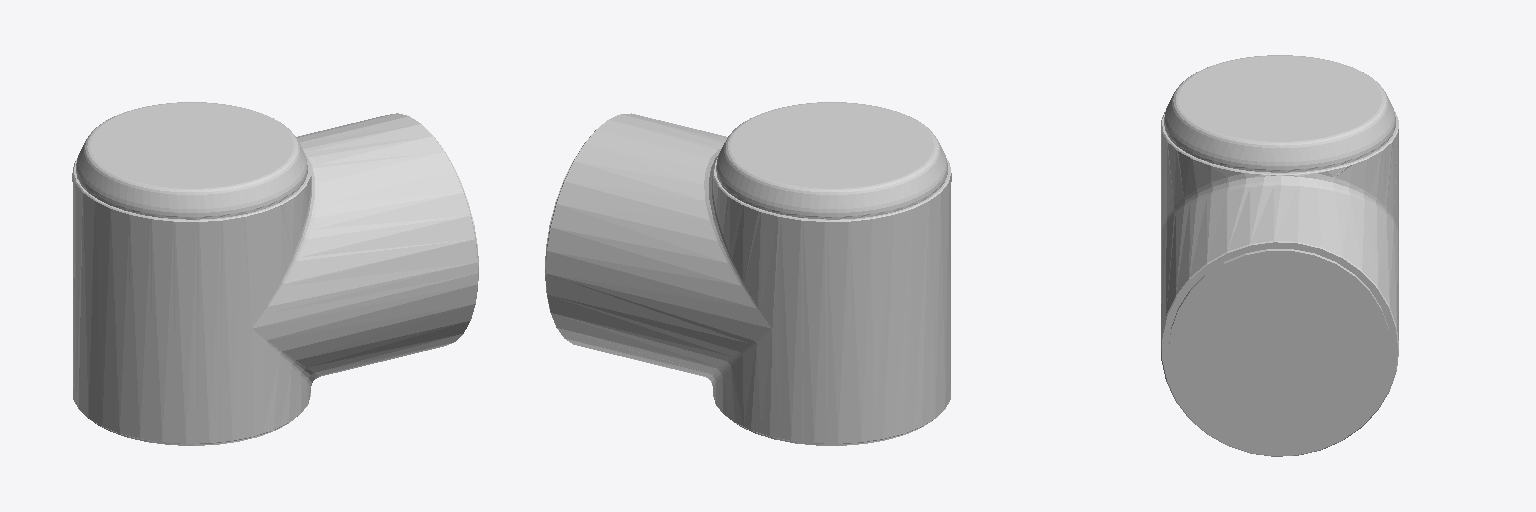
File: wrist_flex_link.obj
3 views of the same model, side by side, from view 1: azimuth 30°, elevation 25°; view 2: azimuth 150°, elevation 25°; view 3: azimuth 270°, elevation 25° (orthographic).
Visible parts, largest first — view 1: obj1; view 2: obj1; view 3: obj1.
Boxes of the visible parts, x1=… form: obj1: x1=72, y1=102, x2=478, y2=445; obj1: x1=545, y1=102, x2=951, y2=445; obj1: x1=1161, y1=55, x2=1398, y2=456.
Size of the model in its own units: 0.1685 by 0.121 by 0.104.